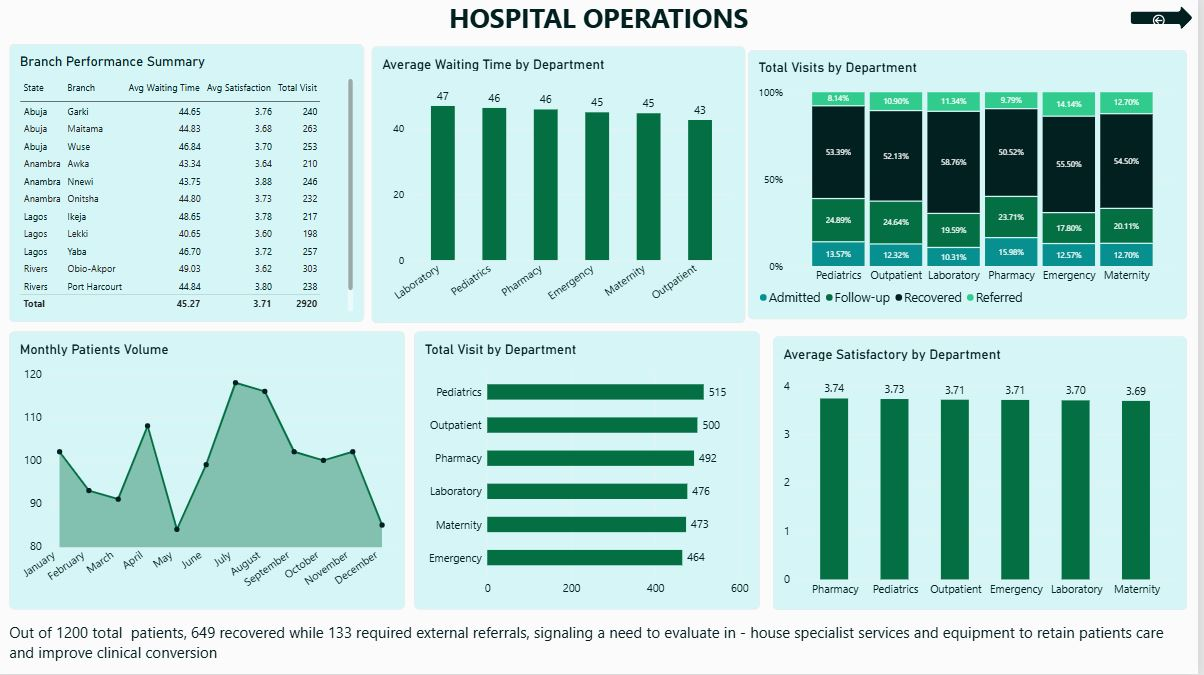

This screenshot's page, from the dashboard's own definition file:
{"tool":"powerbi","page":{"name":"Hospital Operations","canvas":[1920,1080],"ordinal":5},"visuals":[{"type":"clusteredBarChart","title":"Total Visit by Department","fields":{"Category":["Patient_Visits.Department"],"Y":["State_Targets.Total Visit"]},"box":[585,545,622.5,440],"z":0},{"type":"clusteredColumnChart","title":"Average Waiting Time by Department","fields":{"Category":["Patient_Visits.Department"],"Y":["State_Targets.Avg Waiting Time"]},"box":[17.5,545,552.5,440],"z":1000},{"type":"columnChart","title":"Average  Satisfactory by Department","fields":{"Category":["Patient_Visits.Department"],"Y":["State_Targets.Avg Satisfaction"]},"box":[1252.5,77.5,650,452.5],"z":2000},{"type":"hundredPercentStackedColumnChart","title":"Total Visits by Department ","fields":{"Category":["Patient_Visits.Department"],"Series":["Patient_Visits.Outcome"],"Y":["State_Targets.Total Patients"]},"box":[17.5,77.5,672.5,452.5],"z":3000},{"type":"tableEx","title":"Branch Performance Summary ","fields":{"Values":["Patient_Visits.State","Patient_Visits.Branch","State_Targets.Avg Waiting Time","State_Targets.Avg Satisfactory","State_Targets.Total Visit"]},"box":[700,77.5,540,452.5],"z":4000},{"type":"areaChart","title":"Monthly Patients Volume","fields":{"Category":["Date_Table.Month"],"Y":["State_Targets.Total Patients"]},"box":[1220,545,682.5,440],"z":5000},{"type":"actionButton","box":[1819.6,0,100,40],"z":6000},{"type":"textbox","box":[570,0,915,87.5],"z":7000},{"type":"textbox","box":[17.5,985,1892.5,95],"z":7001}]}

Visuals, with their boxes in screenshot pixels (x1, y1, x2, y2), scaled from the page's 1920x1080 canvas onto the 1204x675 screenshot:
"Total Visit by Department" clusteredBarChart: region(367, 341, 757, 616)
"Average Waiting Time by Department" clusteredColumnChart: region(11, 341, 357, 616)
"Average  Satisfactory by Department" columnChart: region(785, 48, 1193, 331)
"Total Visits by Department " hundredPercentStackedColumnChart: region(11, 48, 433, 331)
"Branch Performance Summary " tableEx: region(439, 48, 778, 331)
"Monthly Patients Volume" areaChart: region(765, 341, 1193, 616)
actionButton: region(1141, 0, 1203, 25)
textbox: region(357, 0, 931, 55)
textbox: region(11, 616, 1198, 674)
